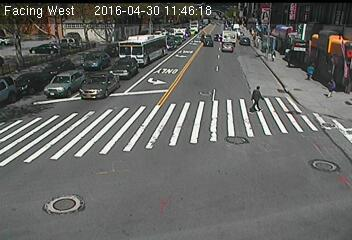neg: (65, 32, 80, 52), (76, 34, 89, 50), (90, 39, 99, 51)
pos: (243, 83, 266, 114), (322, 74, 342, 101)
